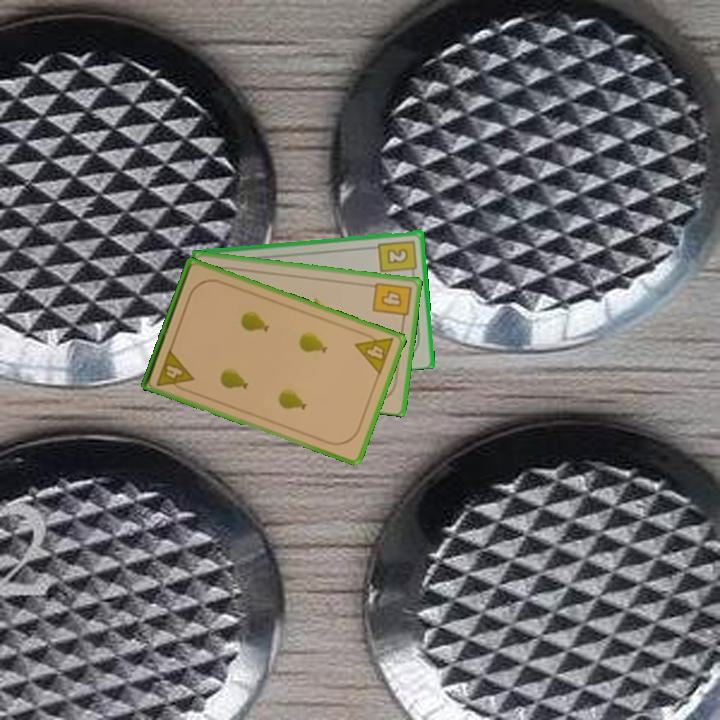2b: (375, 236, 420, 278)
4b: (369, 279, 414, 325)
4p: (351, 327, 397, 378), (153, 345, 196, 395)
